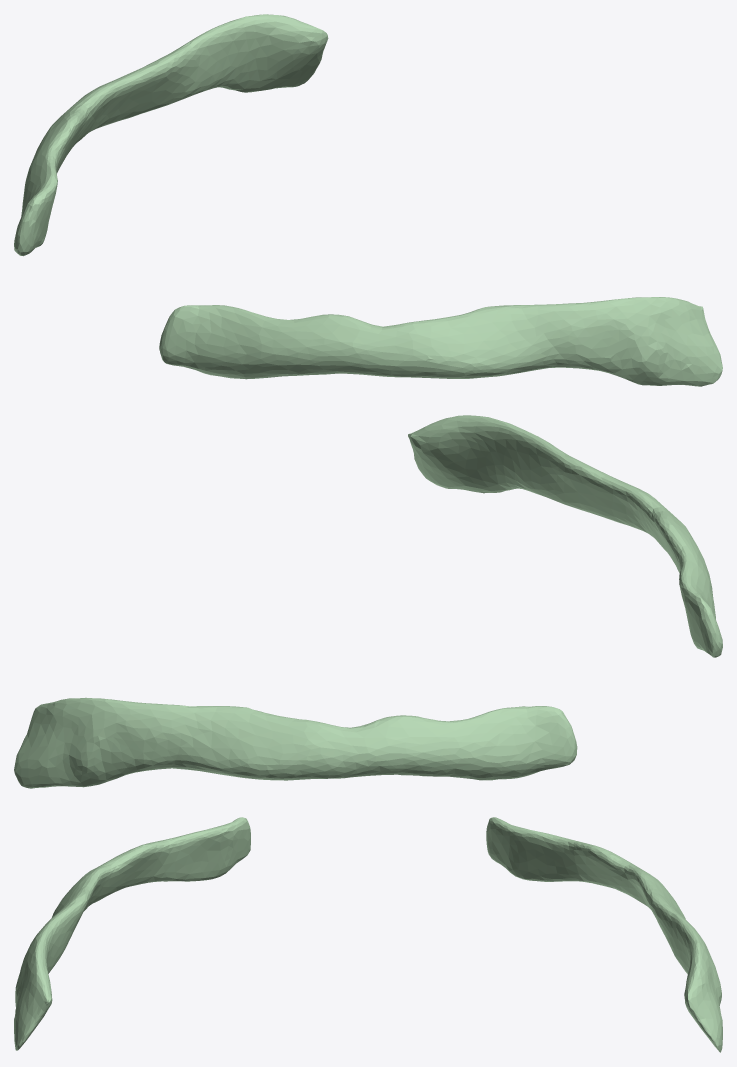
3 views of the same model, one above another, from view 1: azimuth 30°, elevation 25°; view 2: azimuth 150°, elevation 25°; view 3: azimuth 270°, elevation 25° (orthographic). The views are drawn at different scales.
Visible parts, largest first — view 1: 952.obj; view 2: 952.obj; view 3: 952.obj.
Boxes of the visible parts, x1,y1,x2,y2 form: 952.obj: (14, 14, 722, 386); 952.obj: (14, 415, 722, 788); 952.obj: (14, 817, 722, 1052).
Size of the model in its own units: 5034 by 1067 by 8354.
